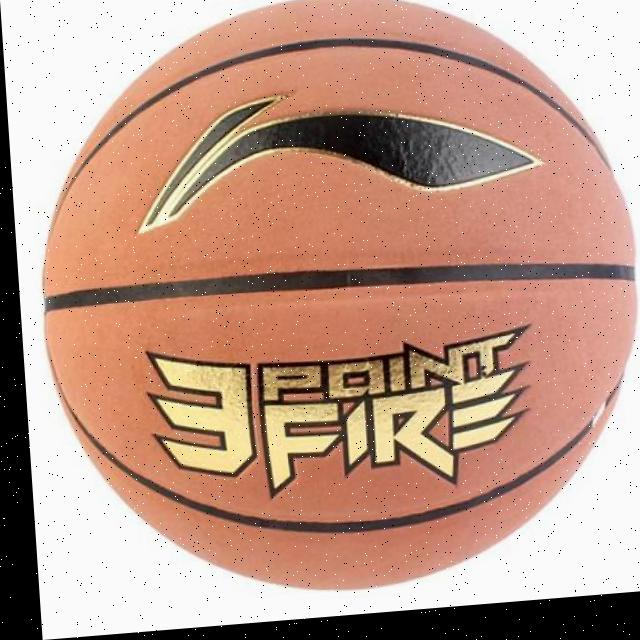Basketball: (26, 0, 640, 609)
